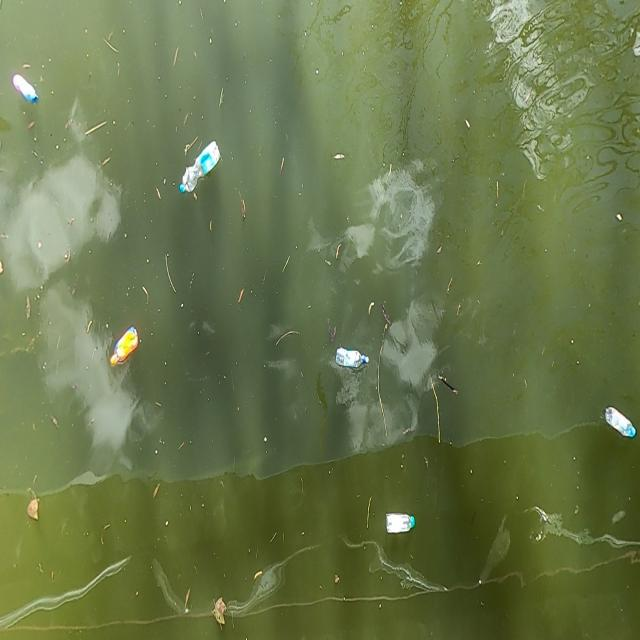Bouteille plastique: (171, 130, 226, 202), (102, 317, 144, 379), (602, 397, 640, 446), (332, 338, 376, 378), (385, 498, 418, 543), (11, 71, 41, 112)
